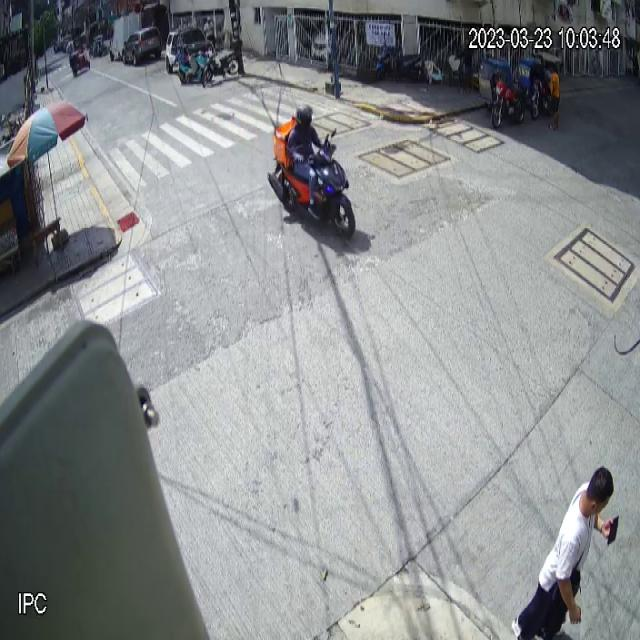Motorcycle: (267, 127, 356, 242)
